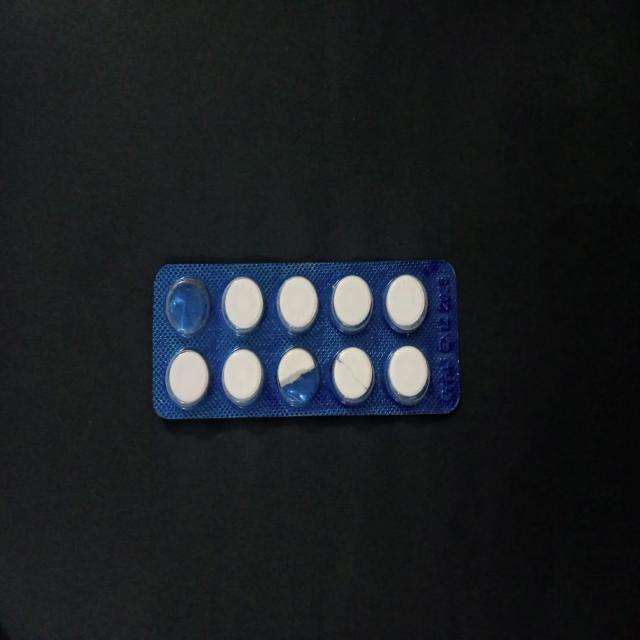defect: (164, 272, 214, 341), (273, 342, 323, 409), (328, 344, 377, 408)
